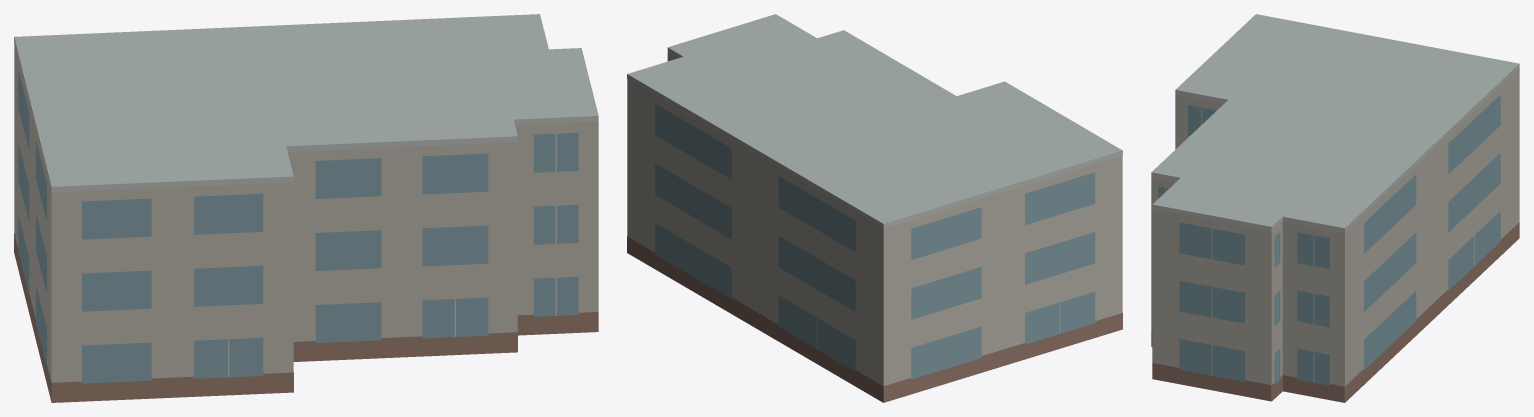
Rendered from survey-upis-32824405.glb.
3 renders of one model, left to right at view 1: azimuth 30°, elevation 25°; view 2: azimuth 150°, elevation 25°; view 3: azimuth 270°, elevation 25°, orthographic. The views are drawn at different scales.
Parts seen in each view (by area): view 1: survey-upis-32824405.tmp; view 2: survey-upis-32824405.tmp; view 3: survey-upis-32824405.tmp.
Boxes of the visible parts, x1=… form: survey-upis-32824405.tmp: x1=14, y1=14, x2=598, y2=402; survey-upis-32824405.tmp: x1=627, y1=14, x2=1122, y2=402; survey-upis-32824405.tmp: x1=1151, y1=14, x2=1519, y2=402.
Size of the model in its own units: 24.09 by 9.15 by 17.5.
